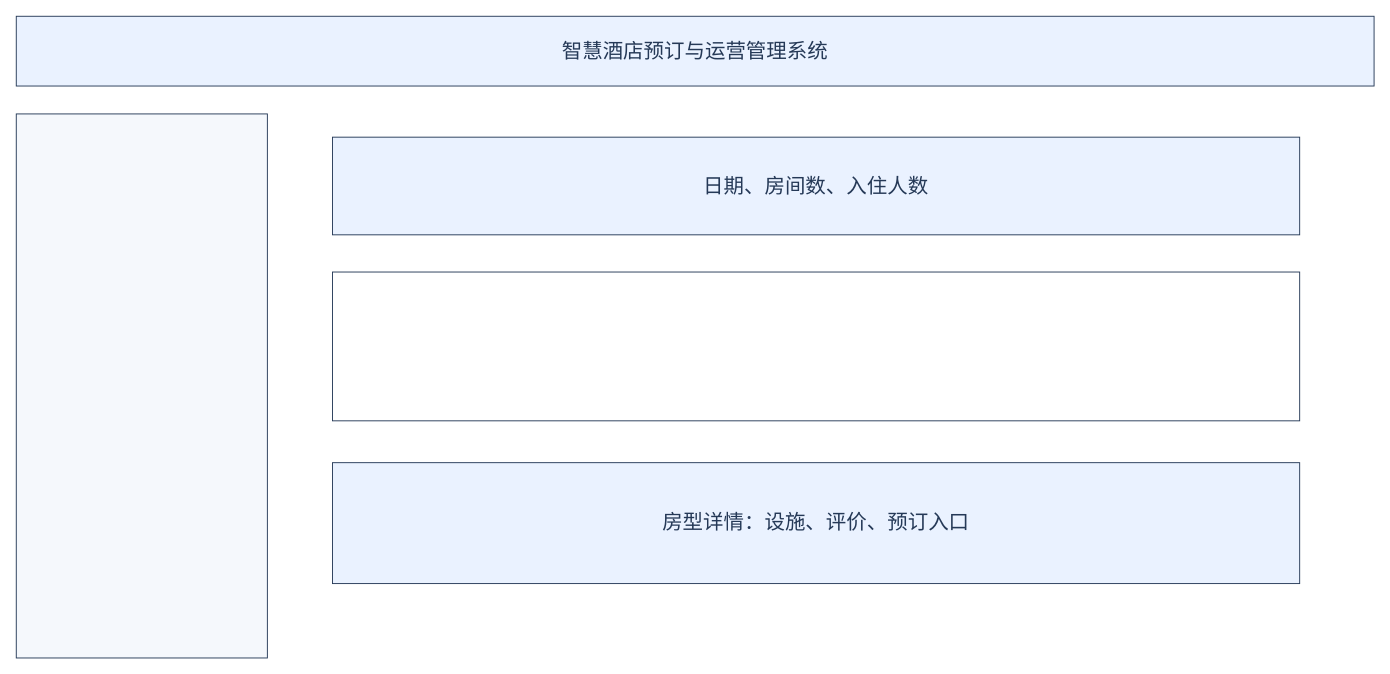
This 1390x674 diagram has some shape labels left out. Each missing label, with the centre of its shape:
房型列表：图片、价格、可订量: the point at 816,346
首页 / 房型: the point at 141,385
